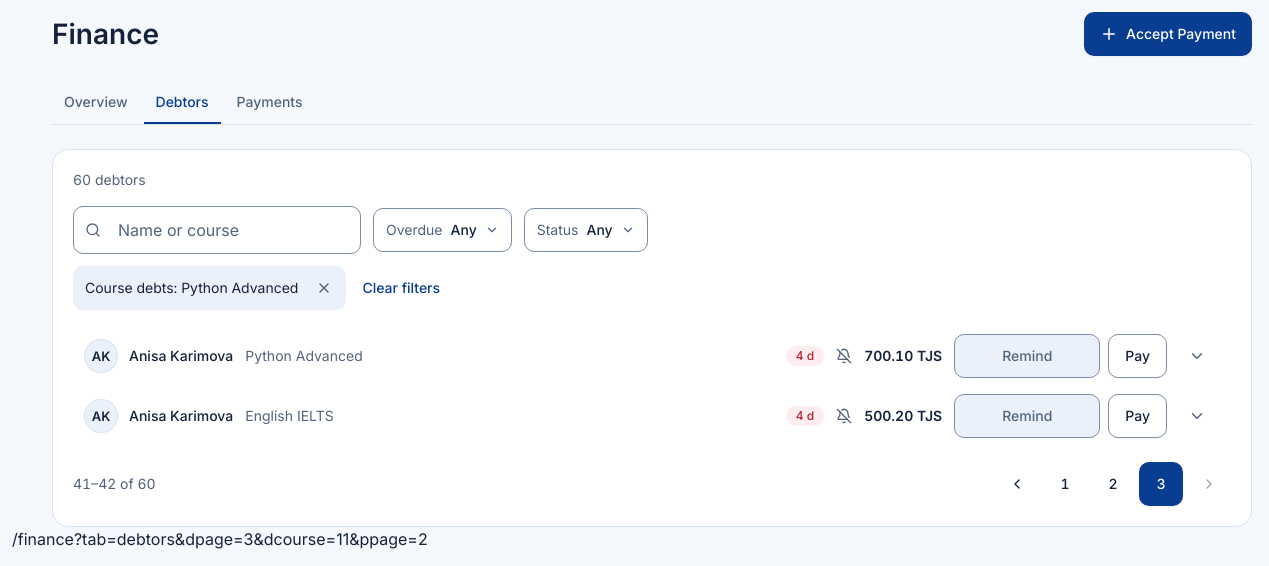
Test case: Finance navigation › keeps the debtors page when switching away and back, and a filter change resets only the debtors page
Click the tab "Payments": (270, 102) top-left (225, 80), bottom-right (315, 124)
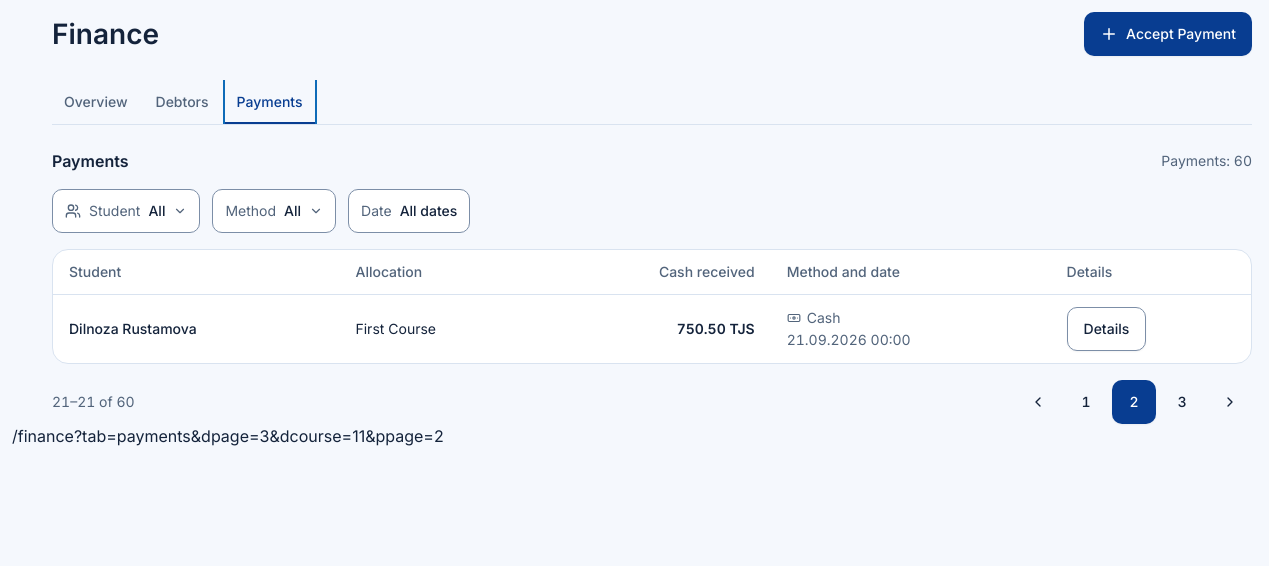
Expected: the text with test id "location" reads "/finance?tab=payments&dpage=3&dcourse=11&ppage=2", top-left (12, 426), bottom-right (444, 446)
Click the tab "Debtors": (182, 102) top-left (144, 80), bottom-right (220, 124)
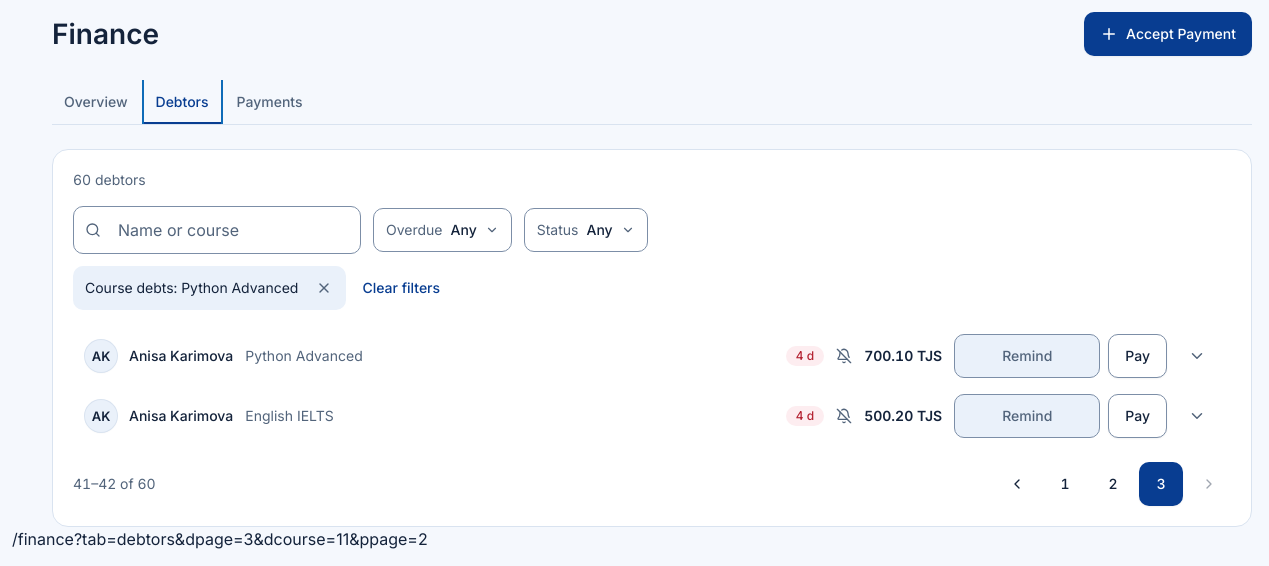
Expected: the text with test id "location" reads "/finance?tab=debtors&dpage=3&dcourse=11&ppage=2", top-left (12, 529), bottom-right (428, 549)
Click the button named "Clear the course filter": (324, 288) top-left (302, 266), bottom-right (346, 310)
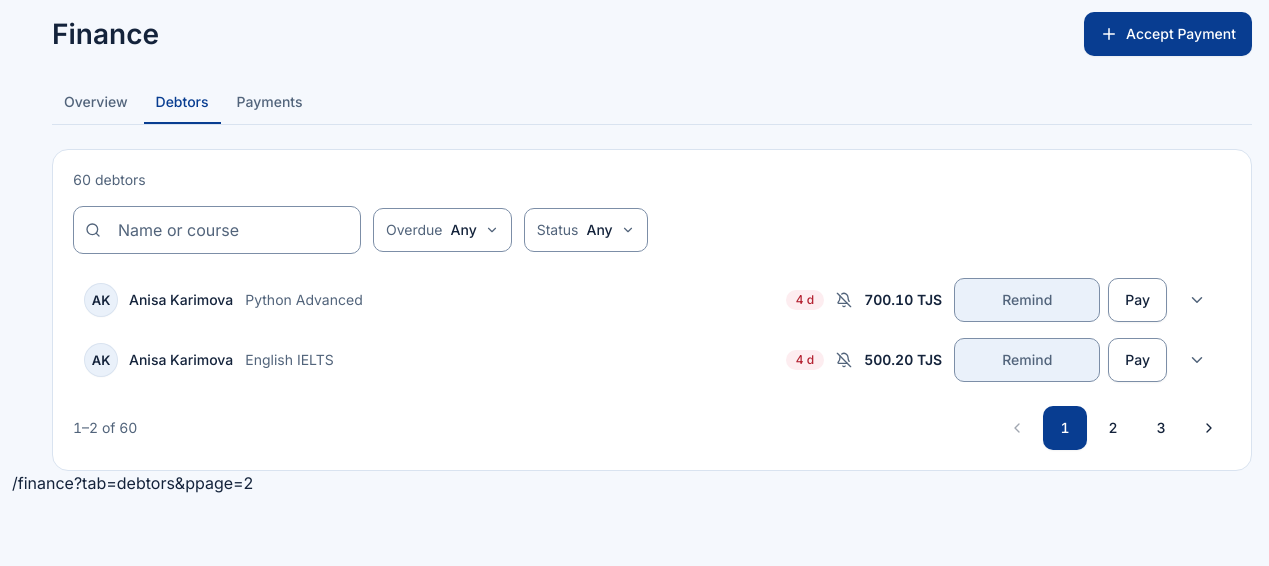
Expected: the text with test id "location" reads "/finance?tab=debtors&ppage=2", top-left (12, 473), bottom-right (253, 493)
